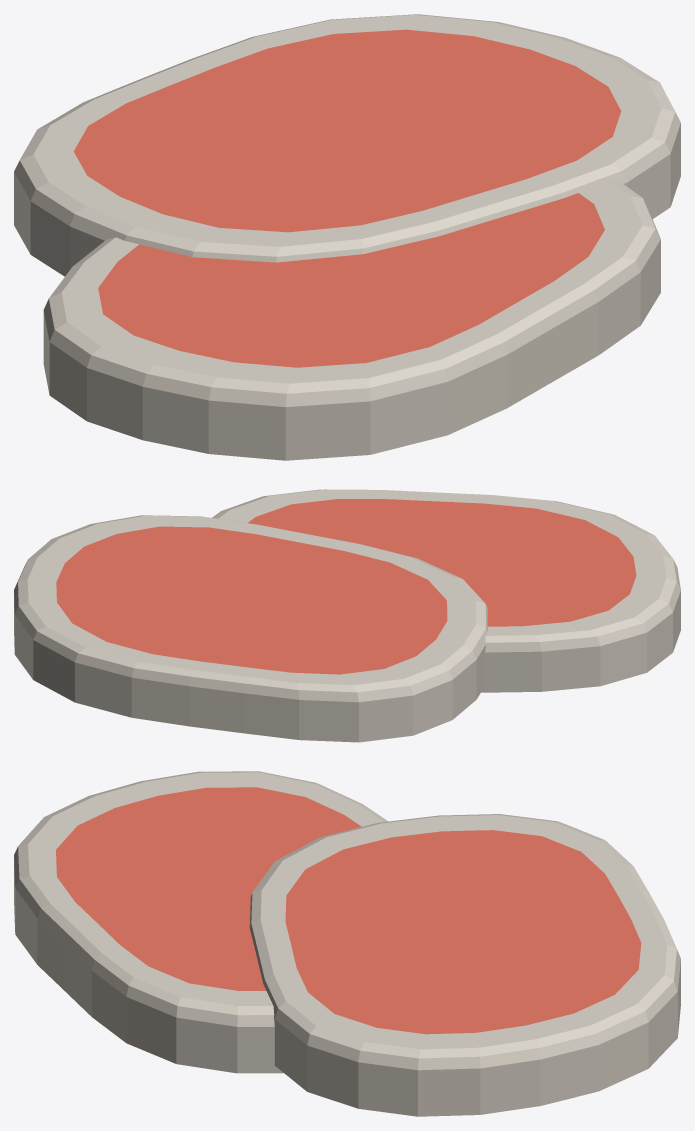
Rendered from Lomo.fbx.
The picture shows the model from 3 angles, top to bottom: view 1: azimuth 30°, elevation 25°; view 2: azimuth 150°, elevation 25°; view 3: azimuth 270°, elevation 25°; orthographic projection. The views are drawn at different scales.
Visible parts, largest first — view 1: Lomo; view 2: Lomo; view 3: Lomo.
Boxes of the visible parts, x1,y1,x2,y2 form: Lomo: (14, 14, 680, 460); Lomo: (14, 489, 680, 742); Lomo: (14, 771, 680, 1116).
Size of the model in its own units: 0.00235 by 0.00025 by 0.00221.
